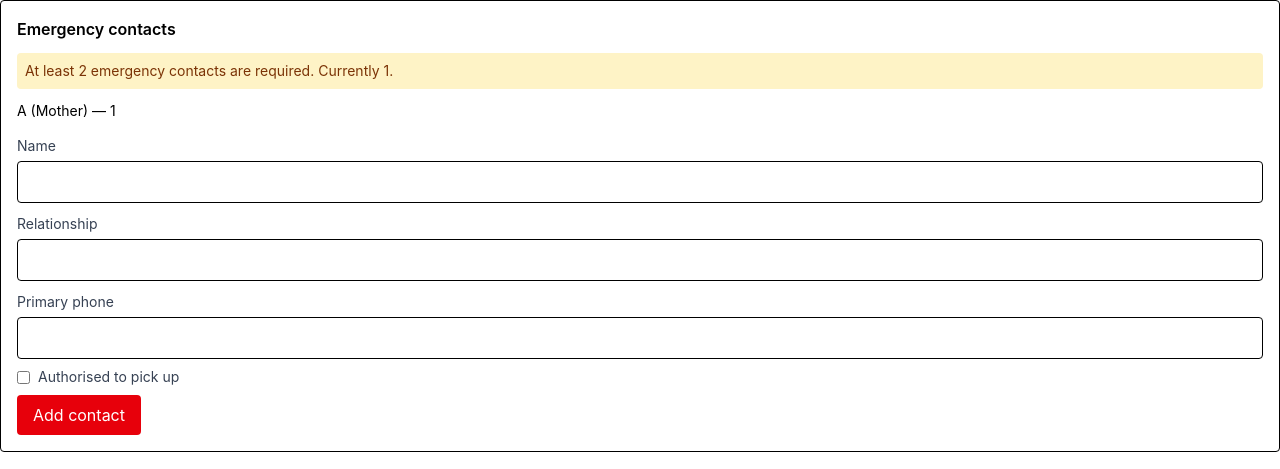
EmergencyContactsForm min-contact gate (FR-003) › clears the incomplete warning once 2 contacts exist
Check: the message shows "Currently 1", box [17,53,1263,89]
Type "Second Contact" into the field labelled "Name".
click(640, 182); type("Second Contact")  # box [17,161,1263,203]
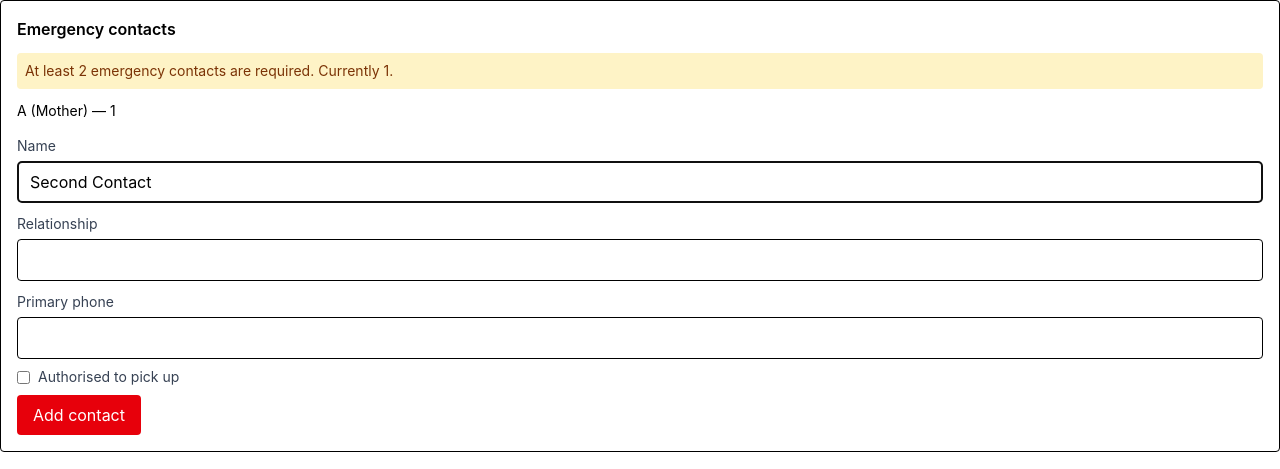
Type "Father" into the field labelled "Relationship".
click(640, 260); type("Father")  # box [17,239,1263,281]
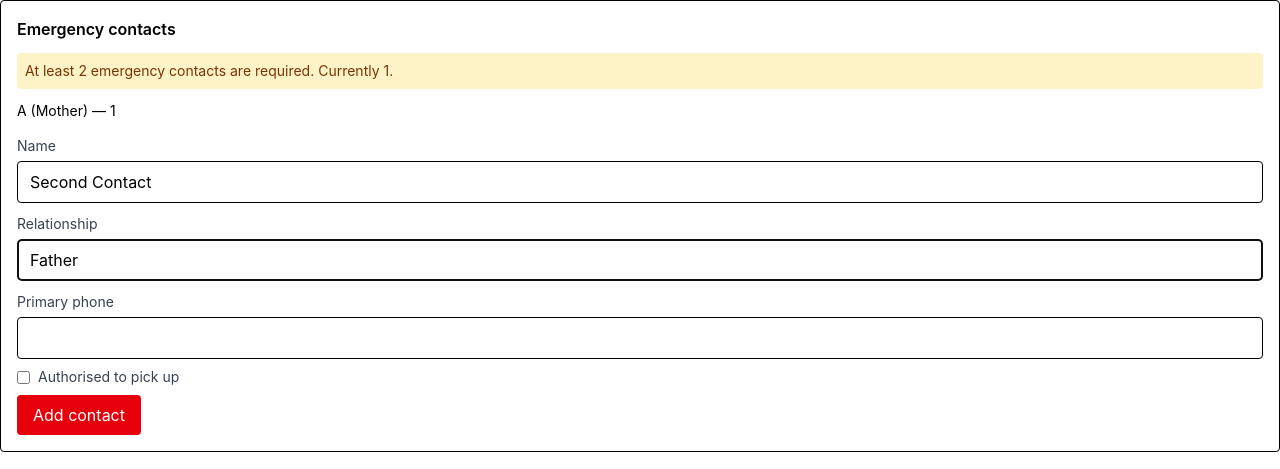
Type "555-0101" into the field labelled "Primary phone".
click(640, 338); type("555-0101")  # box [17,317,1263,359]
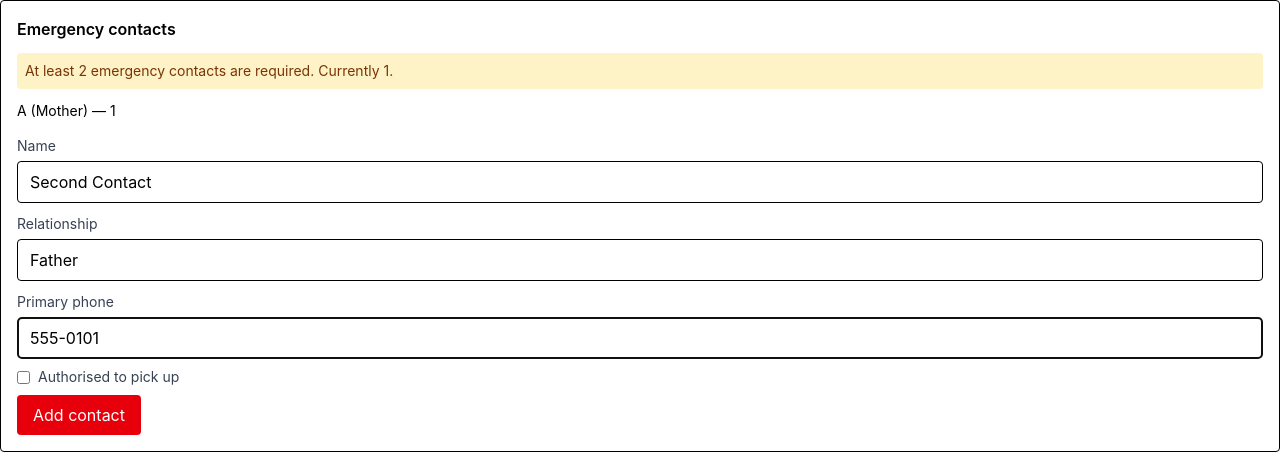
Click the button "Add contact".
click(79, 415)  # box [17,395,141,435]
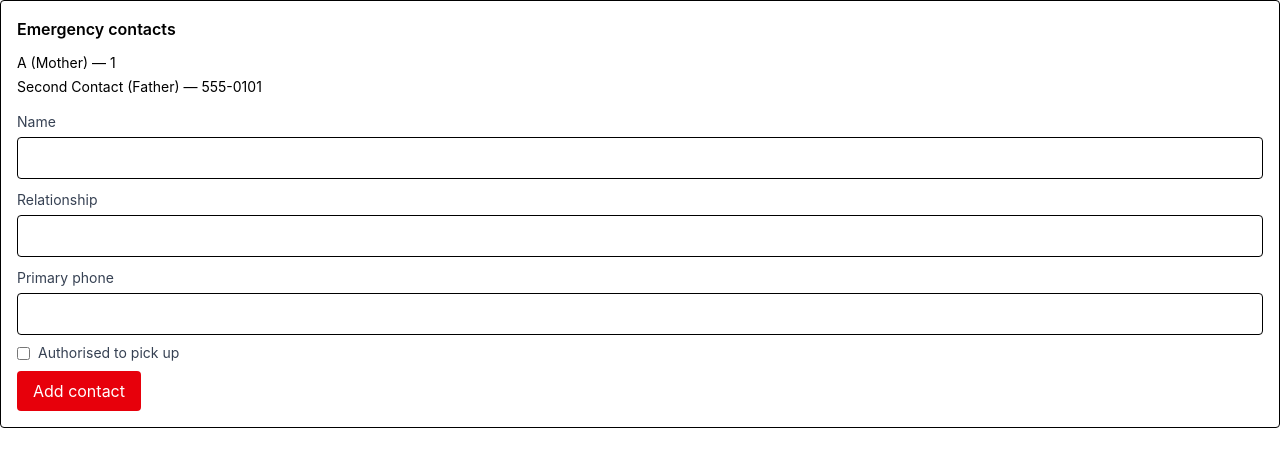
Check: the message "At least 2 emergency contacts are required. Currently 1." is gone
